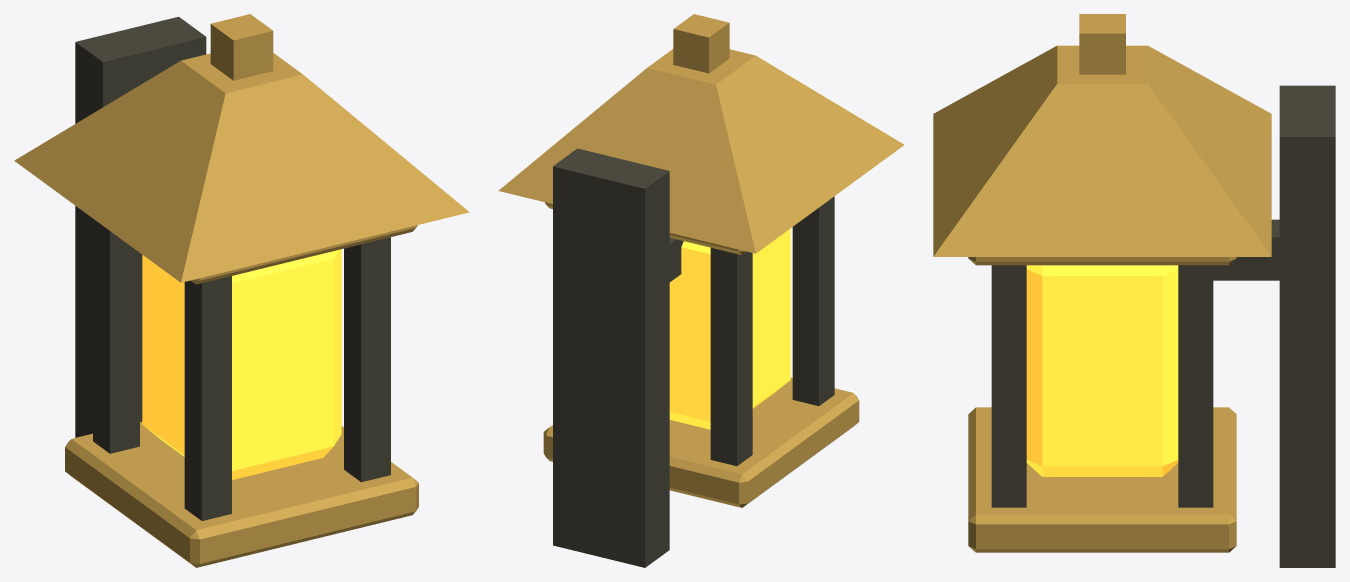
File: entrance-lantern.glb
3 views of the same model, side by side, from view 1: azimuth 30°, elevation 25°; view 2: azimuth 150°, elevation 25°; view 3: azimuth 270°, elevation 25° (orthographic). The views are drawn at different scales.
Parts seen in each view (by area): view 1: Lantern roof, Warm lantern glass, Lantern cap, Wall mount, Lantern frame, Lantern frame.002, Lantern frame.001, Brass lantern finial, Lantern cap.001; view 2: Wall mount, Lantern roof, Warm lantern glass, Lantern cap, Lantern frame.001, Lantern frame, Brass lantern finial, Wall bracket; view 3: Lantern roof, Warm lantern glass, Wall mount, Lantern cap, Lantern frame.002, Lantern frame.003, Brass lantern finial, Lantern cap.001, Wall bracket.
Part boxes in pixels (<box>): Lantern roof: <box>14,53,469,282</box>; Warm lantern glass: <box>142,249,341,479</box>; Lantern cap: <box>65,421,418,567</box>; Wall mount: <box>75,16,206,437</box>; Lantern frame: <box>184,276,231,520</box>; Lantern frame.002: <box>344,237,390,482</box>; Lantern frame.001: <box>93,219,139,453</box>; Brass lantern finial: <box>210,14,273,80</box>; Lantern cap.001: <box>191,225,417,284</box>; Wall mount: <box>553,148,669,567</box>; Lantern roof: <box>498,49,904,253</box>; Warm lantern glass: <box>669,228,790,429</box>; Lantern cap: <box>543,377,859,507</box>; Lantern frame.001: <box>710,248,752,466</box>; Lantern frame: <box>792,196,834,405</box>; Brass lantern finial: <box>673,14,729,73</box>; Wall bracket: <box>669,238,683,282</box>; Lantern roof: <box>933,45,1271,256</box>; Warm lantern glass: <box>1026,265,1178,476</box>; Wall mount: <box>1279,85,1335,567</box>; Lantern cap: <box>968,407,1236,552</box>; Lantern frame.002: <box>991,265,1026,507</box>; Lantern frame.003: <box>1178,265,1213,507</box>; Brass lantern finial: <box>1079,14,1125,74</box>; Lantern cap.001: <box>968,257,1236,265</box>; Wall bracket: <box>1213,219,1279,280</box>.
Bounding box in the file's own units: 0.5443 × 0.9201 × 0.6472.
